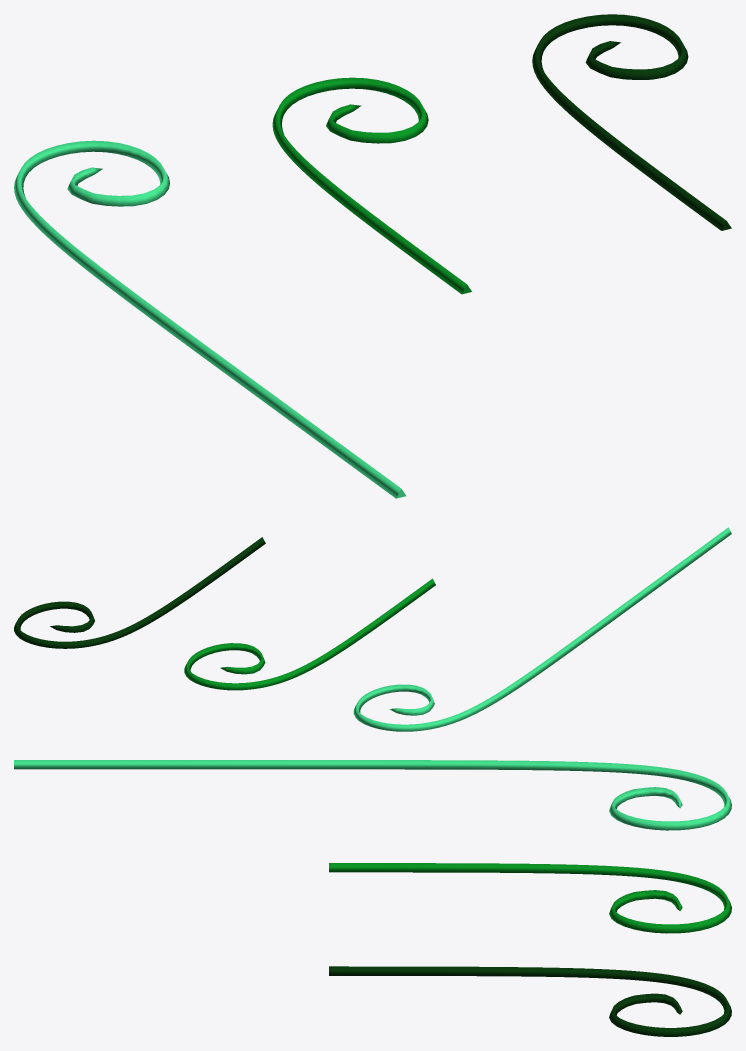
Rendered from tuta_01.fbx.
3 views of the same model, one above another, from view 1: azimuth 30°, elevation 25°; view 2: azimuth 150°, elevation 25°; view 3: azimuth 270°, elevation 25° (orthographic). The views are drawn at different scales.
Parts seen in each view (by area): view 1: nurbsToPoly3, nurbsToPoly2, nurbsToPoly1; view 2: nurbsToPoly3, nurbsToPoly2, nurbsToPoly1; view 3: nurbsToPoly3, nurbsToPoly2, nurbsToPoly1.
Boxes of the visible parts, x1,y1,x2,y2 form: nurbsToPoly3: (14, 140, 406, 498); nurbsToPoly2: (272, 77, 471, 294); nurbsToPoly1: (532, 14, 731, 230); nurbsToPoly3: (353, 527, 731, 731); nurbsToPoly2: (184, 578, 435, 690); nurbsToPoly1: (14, 537, 265, 648); nurbsToPoly3: (14, 760, 731, 830); nurbsToPoly2: (329, 863, 731, 933); nurbsToPoly1: (329, 966, 731, 1036).
Size of the model in its own units: 15.66 by 0.2075 by 17.48.
